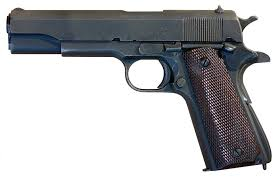gun: (3, 4, 276, 176)
